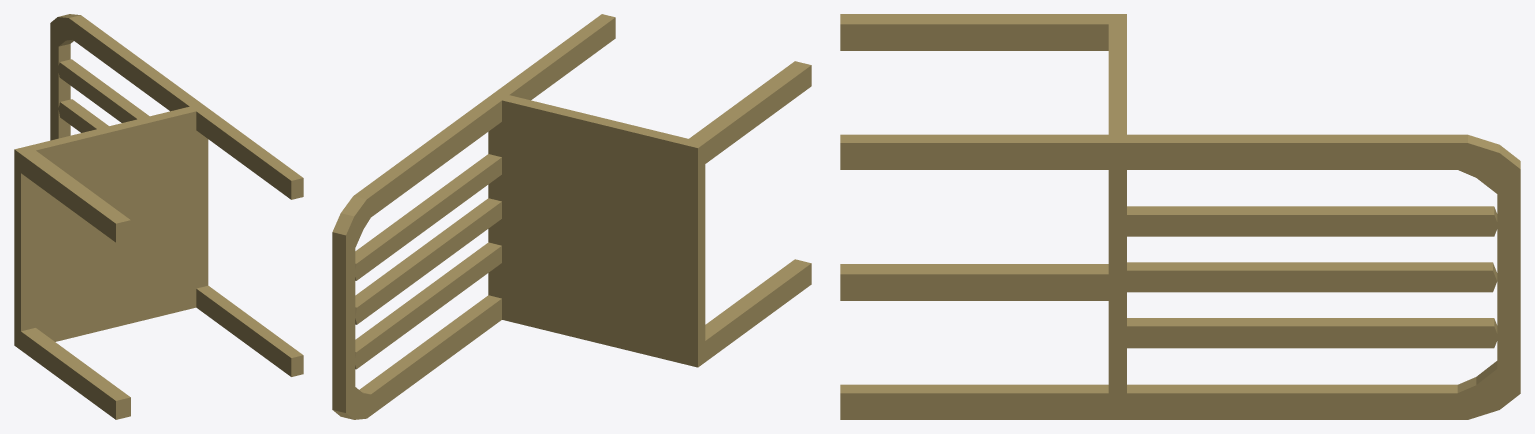
The model's file is Chair.fbx.
The picture shows the model from 3 angles, left to right: view 1: azimuth 30°, elevation 25°; view 2: azimuth 150°, elevation 25°; view 3: azimuth 270°, elevation 25°; orthographic projection. The views are drawn at different scales.
Visible parts, largest first — view 1: Chair; view 2: Chair; view 3: Chair.
Part boxes in pixels (box(x1,y1,x2,y2)): Chair: box(14, 14, 303, 419); Chair: box(332, 14, 811, 419); Chair: box(840, 14, 1520, 419).
Bounding box in the file's own units: 1.29 × 0.5775 × 0.5775.
